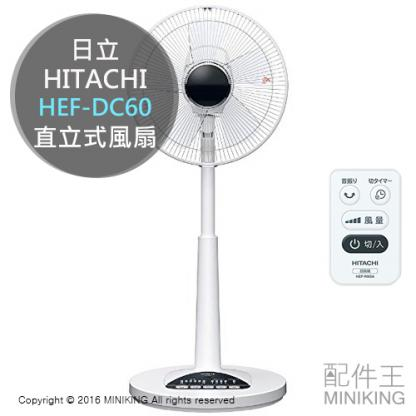fan: (116, 2, 300, 414)
